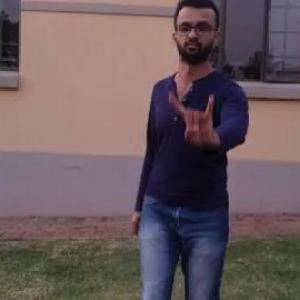takeoff-hand: (167, 82, 229, 156)
